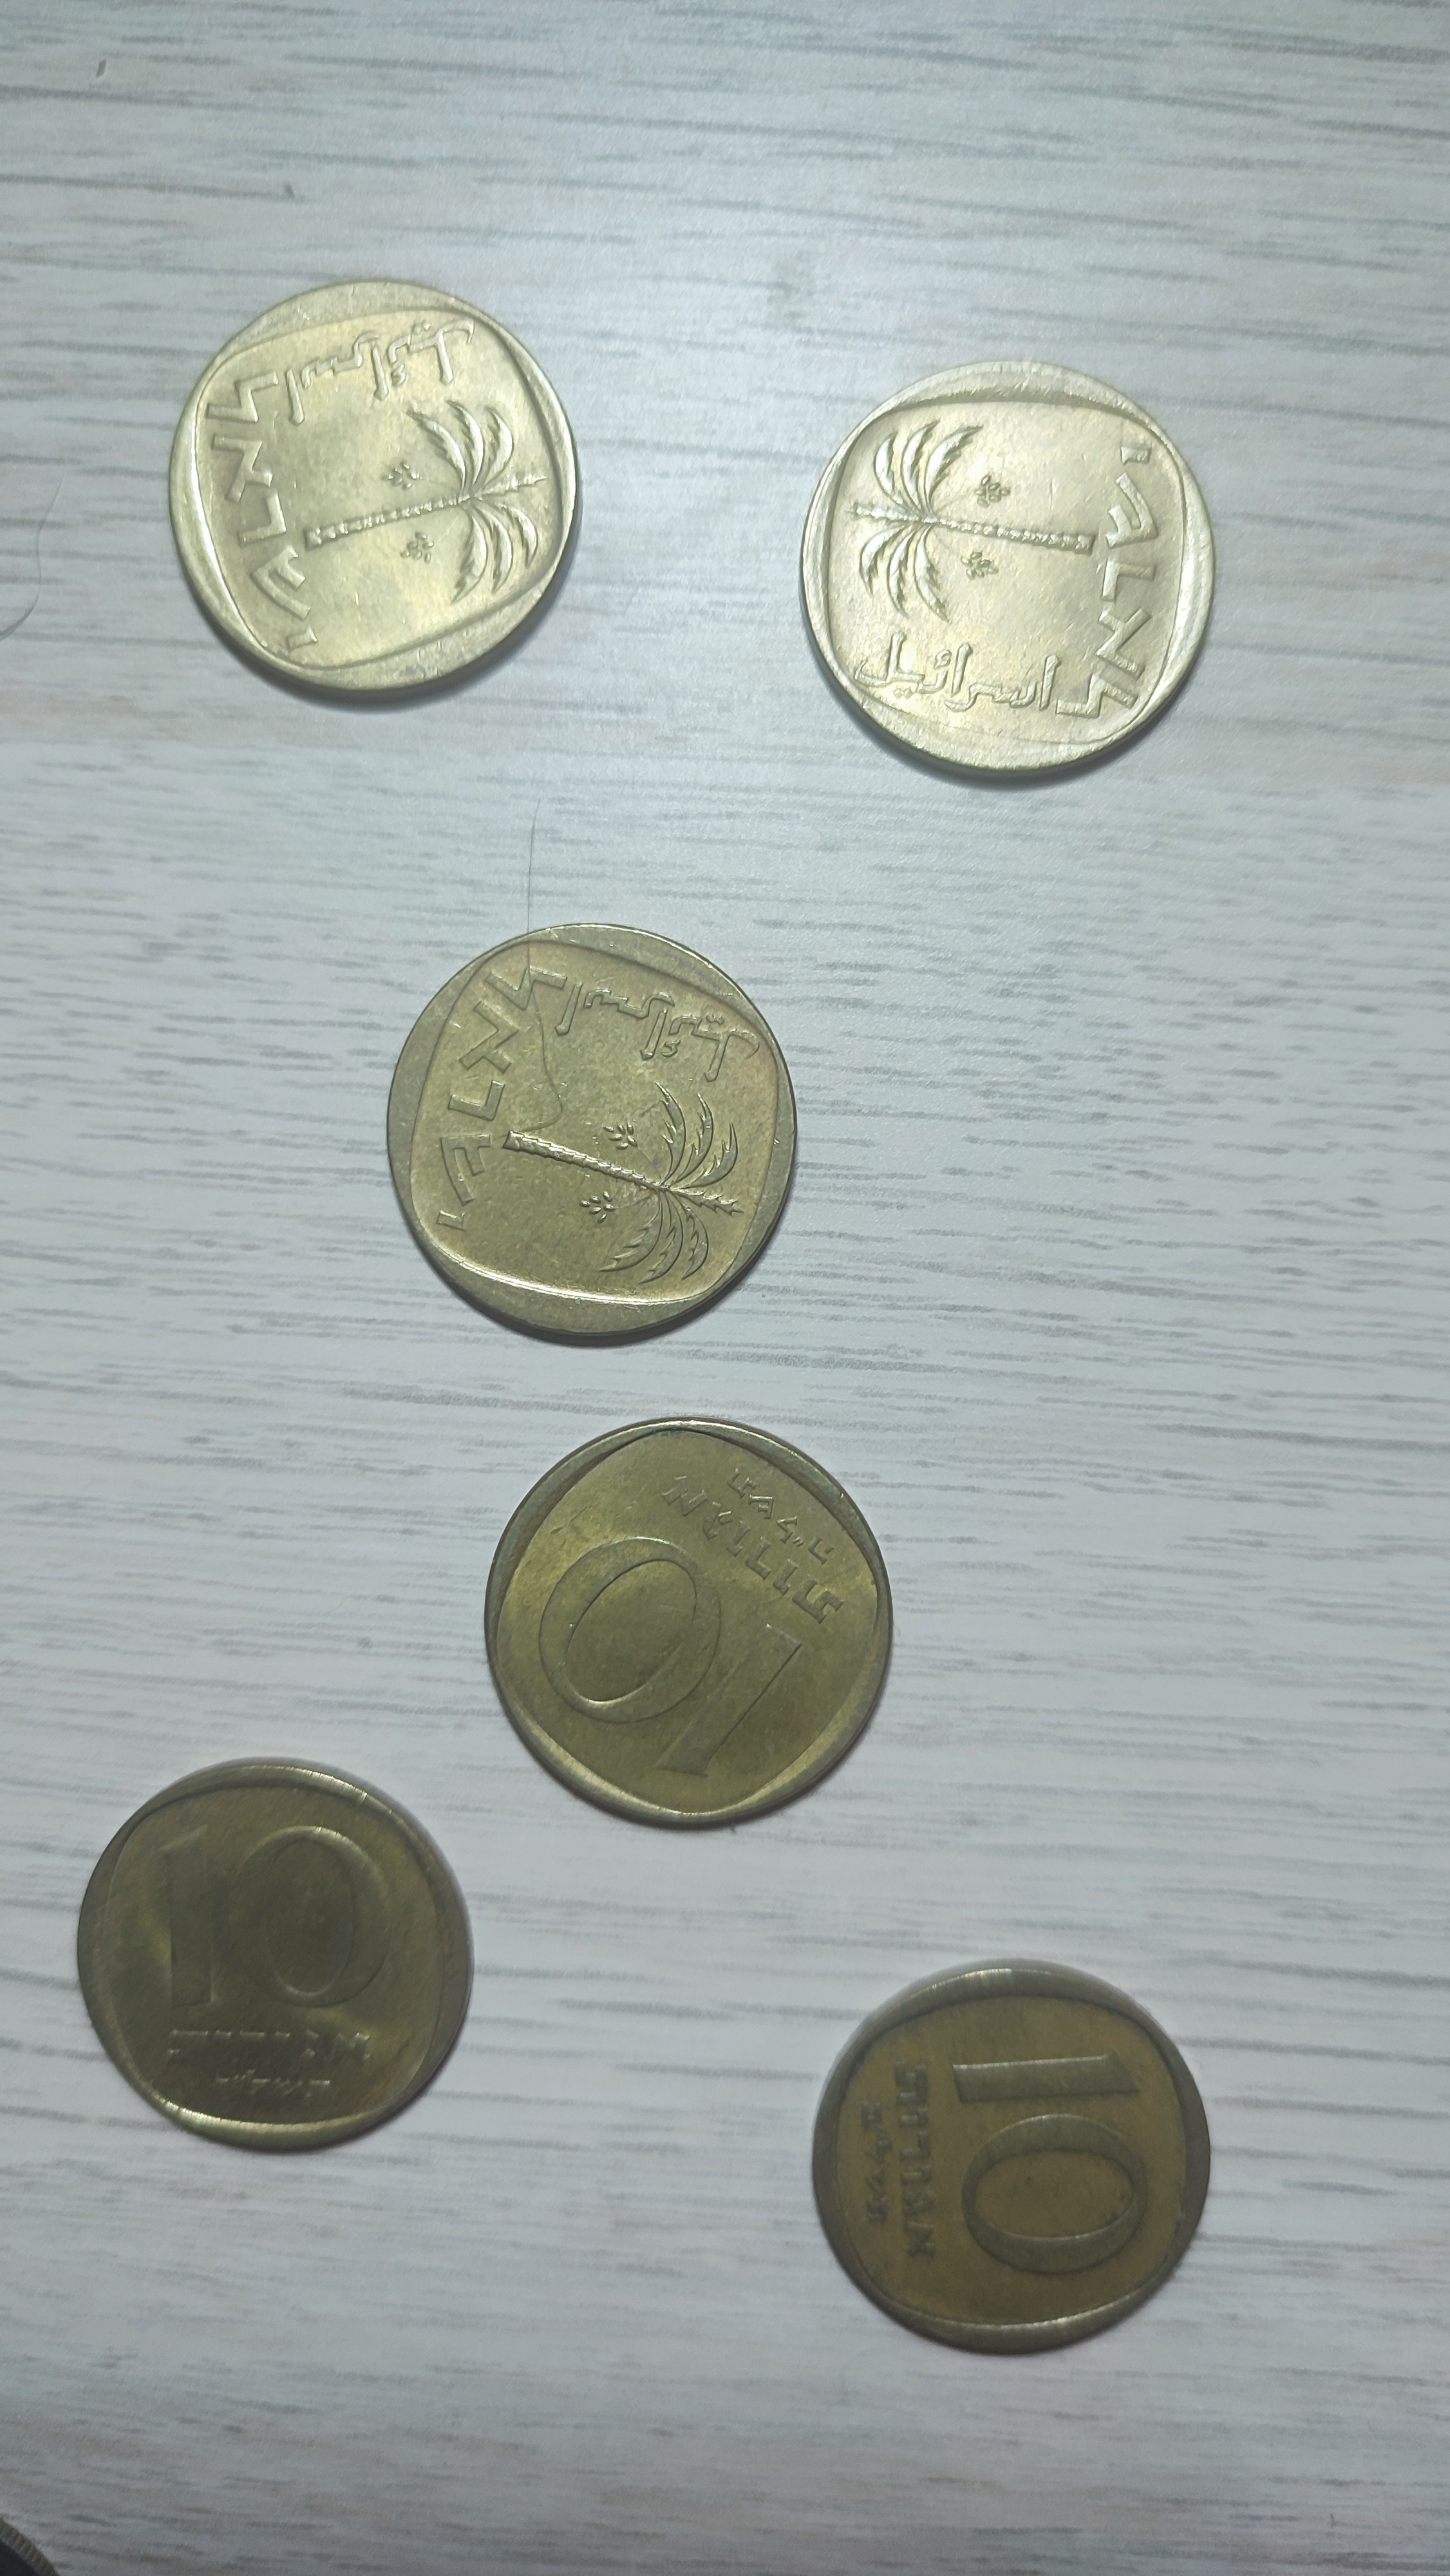10 old agora brown: (467, 1405, 907, 1849), (375, 915, 812, 1348), (792, 357, 1225, 789), (156, 272, 585, 706), (789, 1948, 1220, 2371), (60, 1750, 486, 2164)
